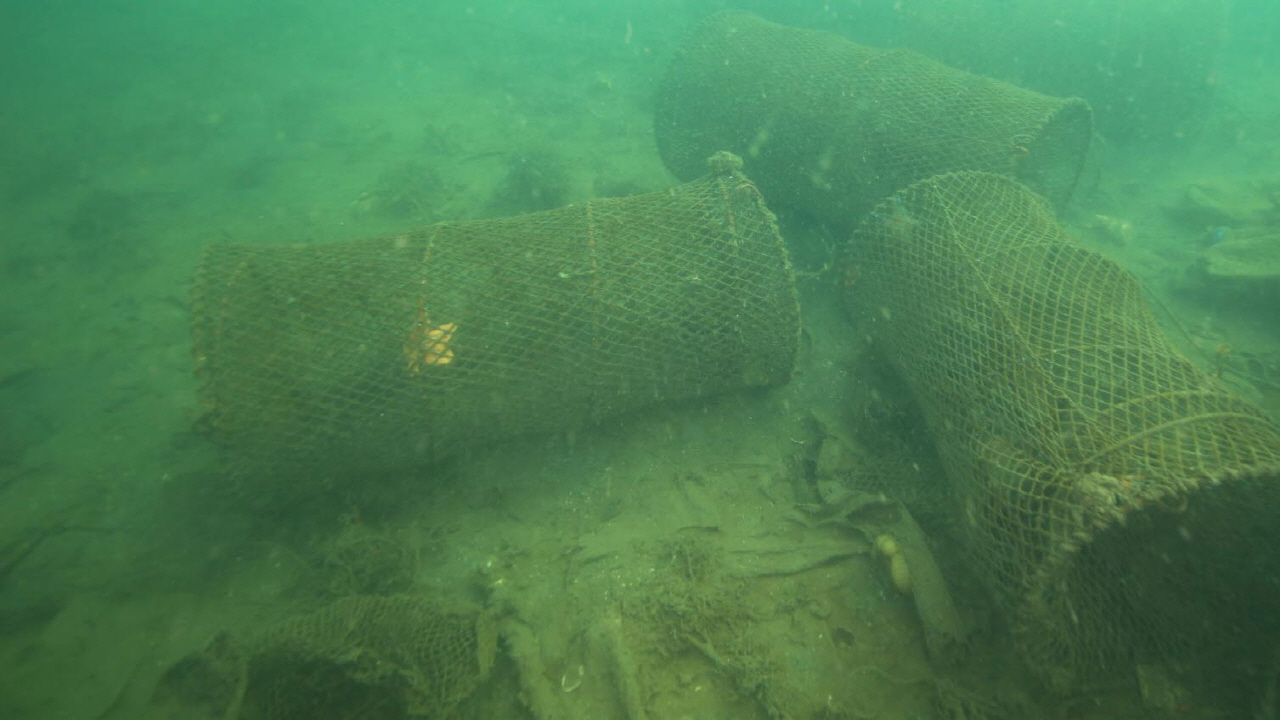fish net: (218, 593, 479, 720)
spring fish trap: (835, 169, 1280, 690), (191, 164, 799, 520), (652, 10, 1093, 231)
